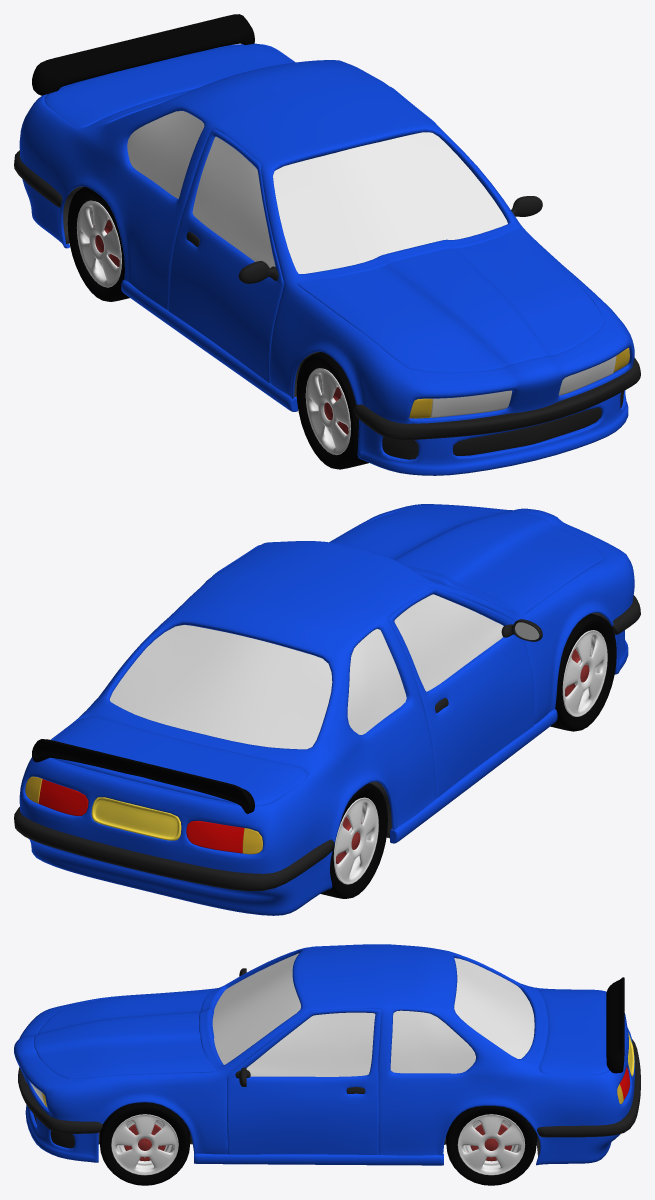
File: VWM-W986.fbx
3 views of the same model, one above another, from view 1: azimuth 30°, elevation 25°; view 2: azimuth 150°, elevation 25°; view 3: azimuth 270°, elevation 25° (orthographic). The views are drawn at different scales.
Visible parts, largest first — view 1: Bodywork, Windows, Hood, Doors, Plastic, Tailgate, Bumper, Spoiler, Back_Wheel_Left, Back_Wheel_Right, RunningBoards, Headlights (+2 smaller); view 2: Bodywork, Windows, Hood, Doors, Tailgate, Plastic, Back_Wheel_Left, Back_Wheel_Right, Spoiler, TailLights, RunningBoards, CarPlate (+2 smaller); view 3: Bodywork, Windows, Doors, Hood, Front_Wheel_Left, Front_Wheel_Right, Tailgate, Plastic, RunningBoards, Spoiler, Bumper.
Boxes of the visible parts, x1,y1,x2,y2 form: Bodywork: (19,43,634,423); Windows: (127,111,507,273); Hood: (297,228,604,371); Doors: (168,86,440,383); Plastic: (14,150,640,459); Tailgate: (44,44,293,127); Bumper: (357,390,628,475); Spoiler: (32,14,254,95); Back_Wheel_Left: (296,352,368,469); Back_Wheel_Right: (67,186,129,301); RunningBoards: (121,279,298,411); Headlights: (430,355,616,417); Bodywork: (19,504,634,915); Windows: (109,594,503,749); Hood: (331,508,604,614); Doors: (212,545,534,798); Tailgate: (52,716,307,805); Plastic: (14,595,640,890); Back_Wheel_Left: (550,613,616,731); Back_Wheel_Right: (320,783,387,898); Spoiler: (32,739,254,813); TailLights: (38,779,244,853); RunningBoards: (390,709,557,843); CarPlate: (91,797,181,840); Bodywork: (14,944,634,1165); Windows: (212,953,534,1076); Doors: (227,944,381,1154); Hood: (34,988,216,1078); Front_Wheel_Left: (99,1102,190,1185); Front_Wheel_Right: (446,1106,536,1185); Tailgate: (539,989,608,1074); Plastic: (18,1039,640,1148); RunningBoards: (194,1153,443,1165); Spoiler: (606,977,624,1073); Bumper: (25,1104,98,1162).
Size of the model in its own units: 135 by 96.08 by 320.
